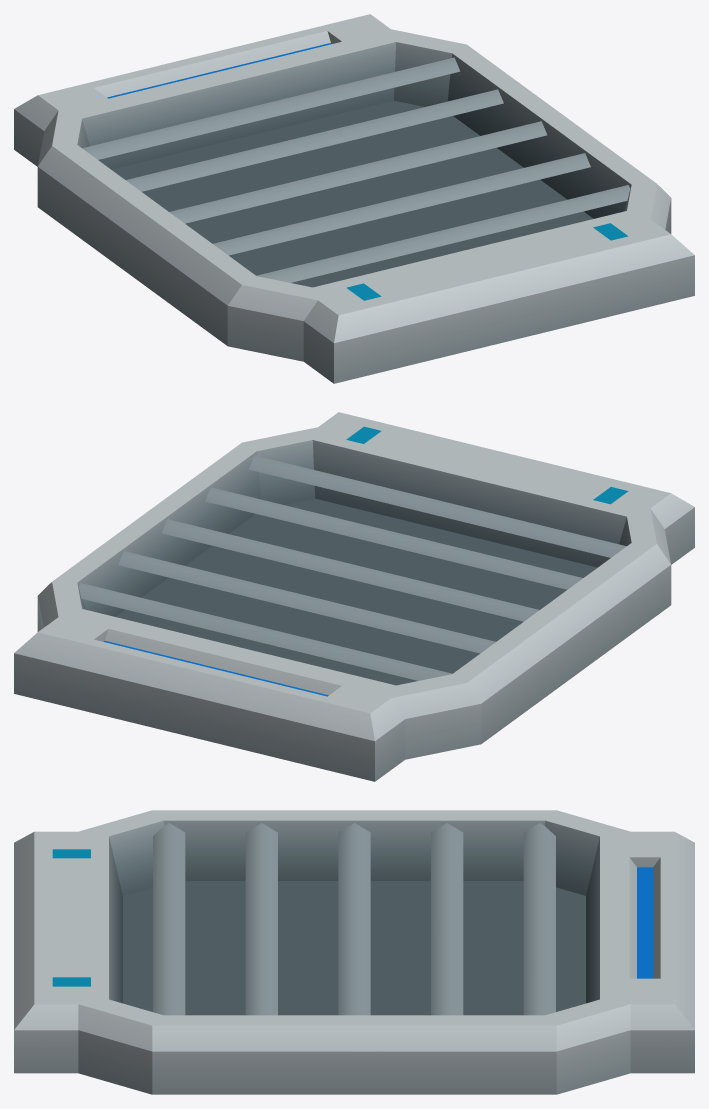
File: Ventilation_006.fbx
3 views of the same model, one above another, from view 1: azimuth 30°, elevation 25°; view 2: azimuth 150°, elevation 25°; view 3: azimuth 270°, elevation 25° (orthographic). The views are drawn at different scales.
Parts seen in each view (by area): view 1: Ventilation_006; view 2: Ventilation_006; view 3: Ventilation_006.
Boxes of the visible parts, <box> form: Ventilation_006: <box>14,14,694,383</box>; Ventilation_006: <box>14,412,694,781</box>; Ventilation_006: <box>14,810,694,1094</box>.
Bounding box in the file's own units: 80 × 100 × 10.
